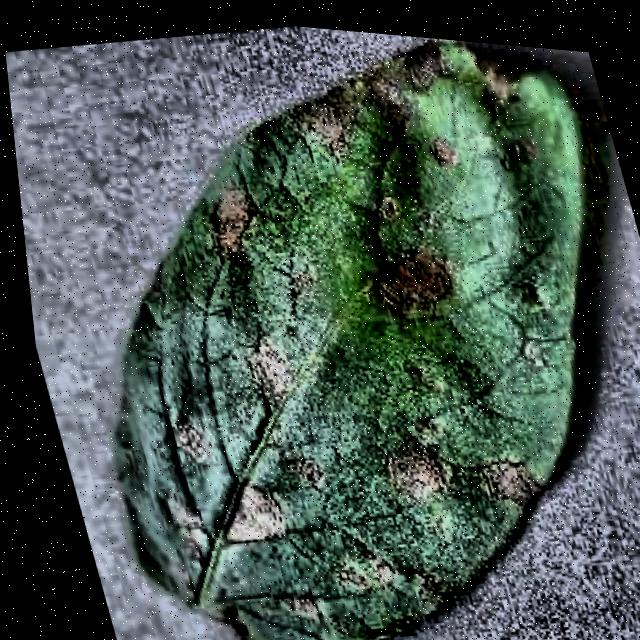Potato_leaf_early_blight: (118, 40, 583, 640)
